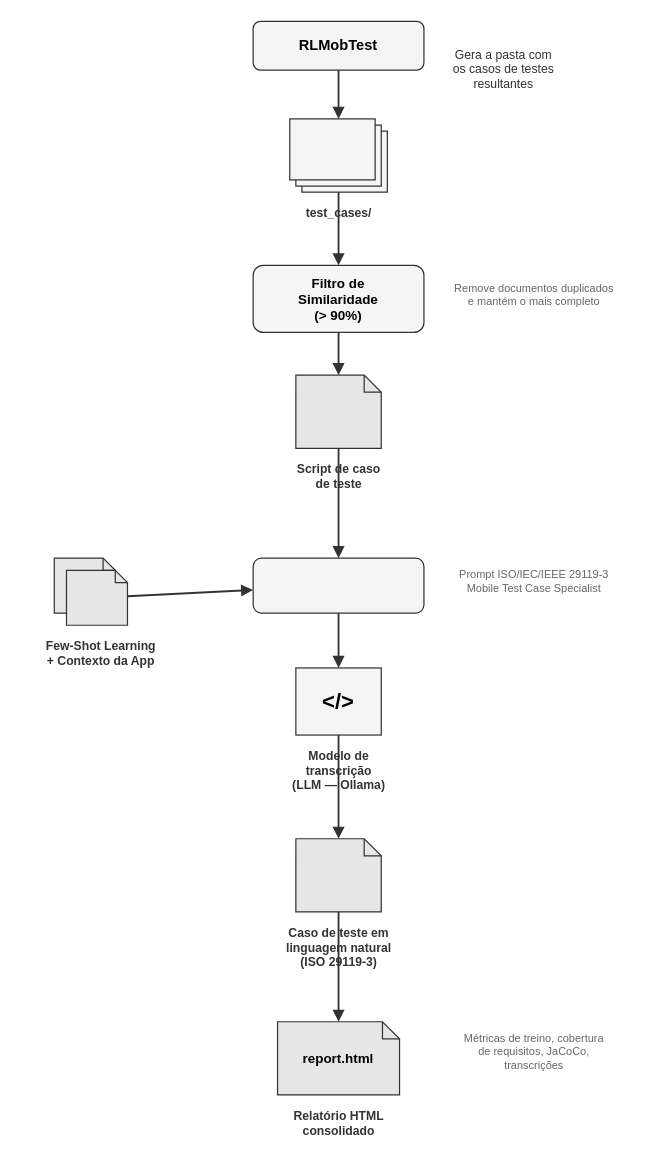
This 664x1160 diagram has some shape labels left out. The shapes that lost their labels are listed below. From the top down, each one's centre as x and y in pixels, then its label:
At point 338,585: "Agente CrewAI".
At point 338,875: ".TXT".
